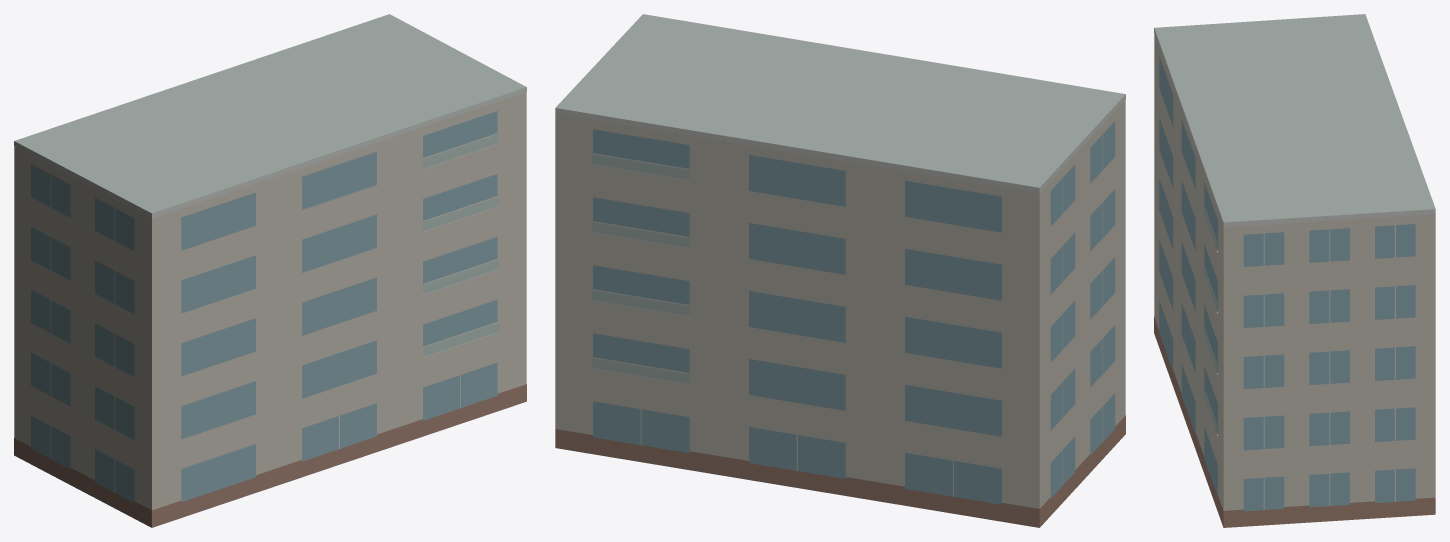
File: survey-upis-32632499.glb
3 renders of one model, left to right at view 1: azimuth 30°, elevation 25°; view 2: azimuth 150°, elevation 25°; view 3: azimuth 270°, elevation 25°, orthographic. The views are drawn at different scales.
Visible parts, largest first — view 1: survey-upis-32632499.tmp; view 2: survey-upis-32632499.tmp; view 3: survey-upis-32632499.tmp.
Part boxes in pixels (bbox=[...]): survey-upis-32632499.tmp: bbox=[14, 14, 526, 527]; survey-upis-32632499.tmp: bbox=[555, 14, 1125, 527]; survey-upis-32632499.tmp: bbox=[1154, 14, 1435, 527].
Size of the model in its own units: 22.33 by 15.25 by 12.75.
